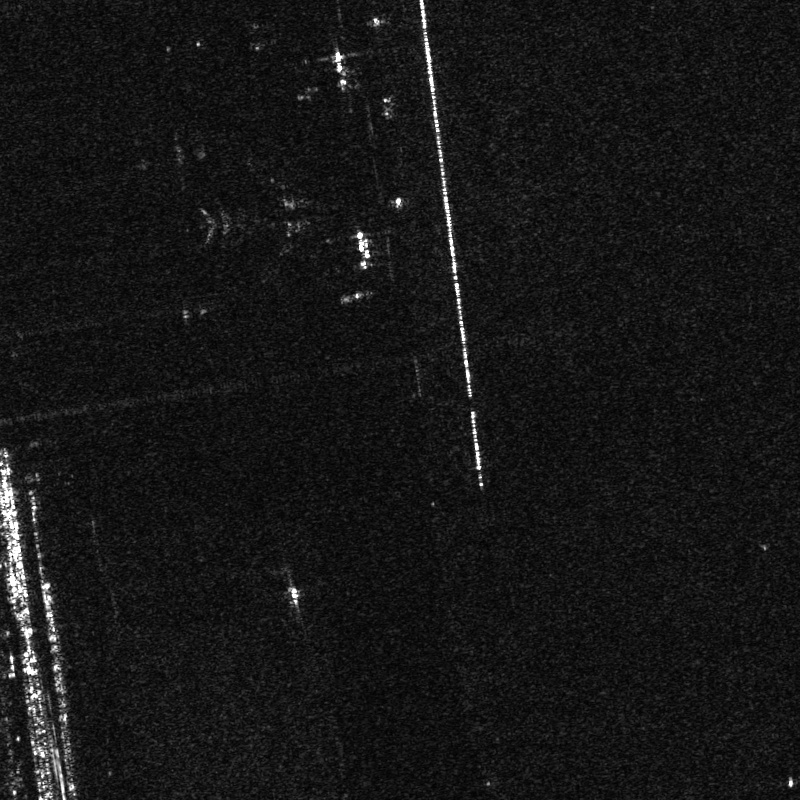Boeing787: (202, 156, 342, 278)
